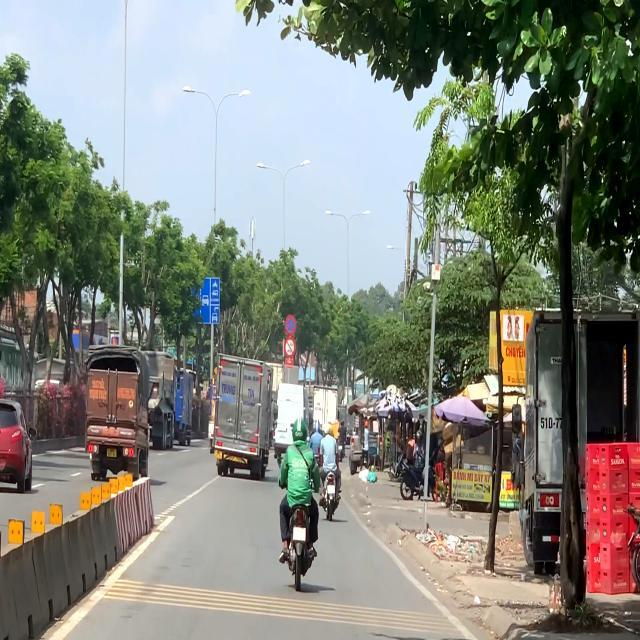Cam dung xe va do xe: (284, 314, 298, 336)
